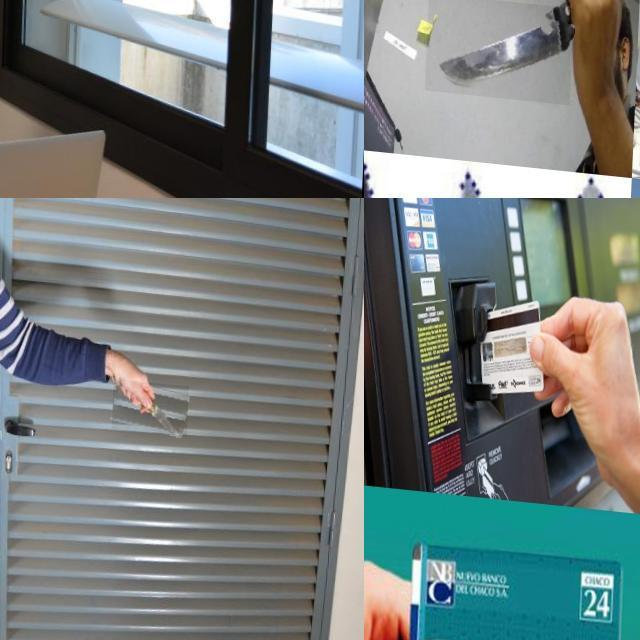-: (427, 0, 575, 99), (115, 372, 192, 428), (75, 0, 127, 18)
